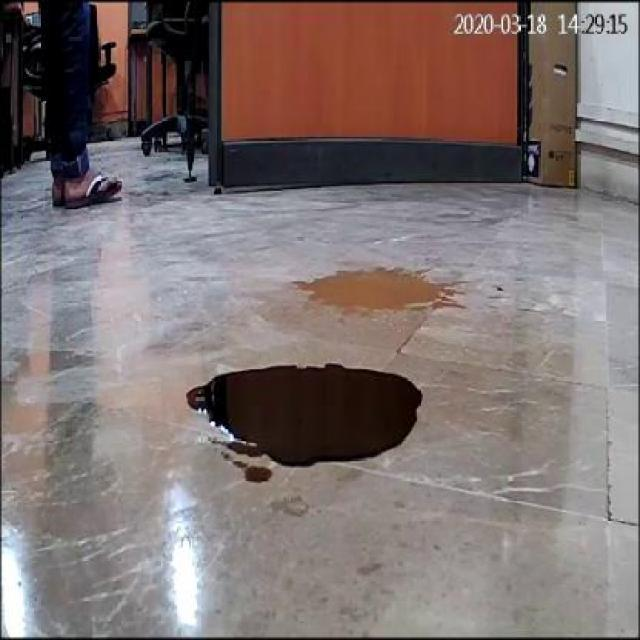spill: (182, 362, 424, 478), (287, 266, 455, 312)
